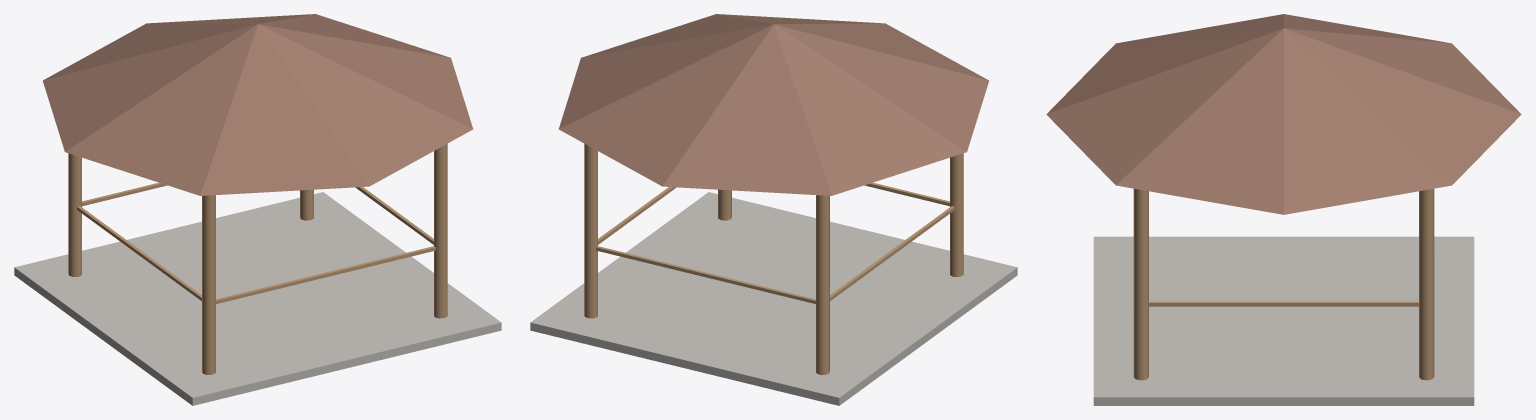
File: gazebo.glb
3 views of the same model, side by side, from view 1: azimuth 30°, elevation 25°; view 2: azimuth 150°, elevation 25°; view 3: azimuth 270°, elevation 25° (orthographic). The views are drawn at different scales.
Parts seen in each view (by area): view 1: roof, base, post_2, post_1, post_4, rail_1, rail_4, rail_3, rail_2; view 2: roof, base, post_4, post_3, post_2, rail_2, rail_4, rail_3, rail_1; view 3: roof, base, post_1, post_3, rail_3.
Part boxes in pixels (x1,y1,x2,y2): roof: (43, 14, 473, 195); base: (14, 192, 501, 405); post_2: (202, 195, 215, 374); post_1: (434, 143, 447, 318); post_4: (68, 153, 81, 276); rail_1: (216, 246, 435, 303); rail_4: (77, 206, 201, 300); rail_3: (355, 187, 433, 244); rail_2: (82, 182, 167, 206); roof: (558, 14, 988, 195); base: (530, 192, 1017, 405); post_4: (816, 195, 829, 374); post_3: (584, 143, 597, 318); post_2: (950, 153, 963, 276); rail_2: (596, 246, 815, 303); rail_4: (830, 206, 954, 300); rail_3: (598, 187, 676, 244); rail_1: (864, 182, 949, 206); roof: (1046, 14, 1521, 214); base: (1093, 236, 1474, 405); post_1: (1133, 188, 1148, 380); post_3: (1419, 188, 1434, 380); rail_3: (1148, 301, 1419, 306).
Bounding box in the file's own units: 5 × 3.5 × 5.
